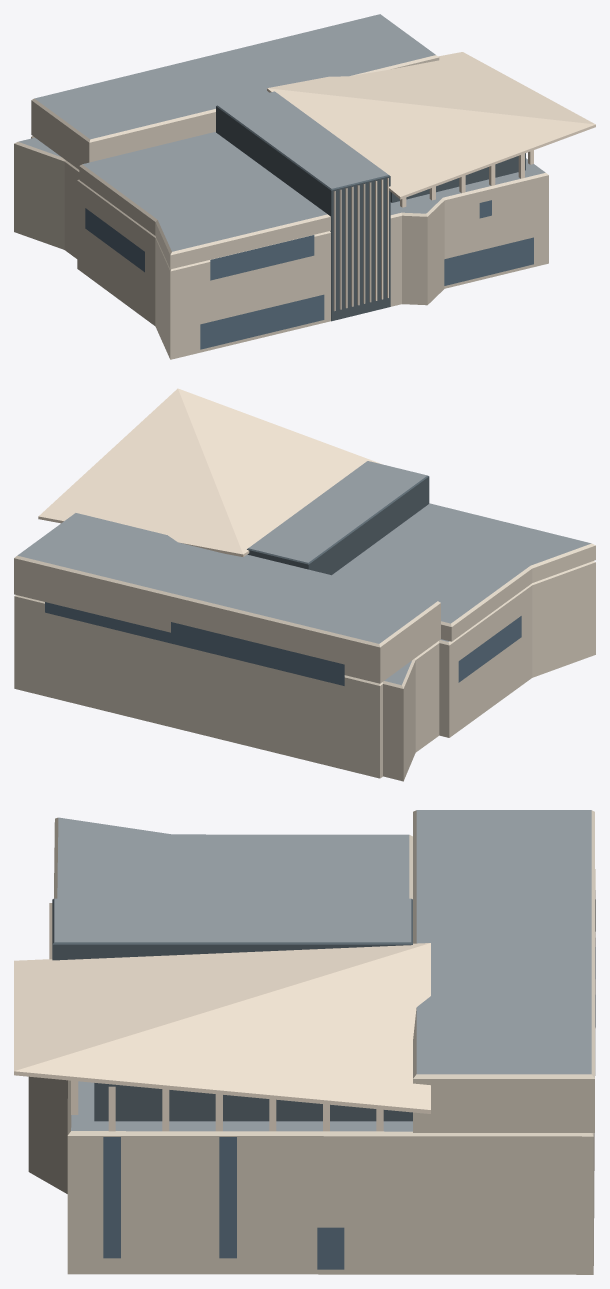
Rendered from den-history-colorado-center.glb.
3 renders of one model, top to bottom at view 1: azimuth 30°, elevation 25°; view 2: azimuth 150°, elevation 25°; view 3: azimuth 270°, elevation 25°, orthographic. The views are drawn at different scales.
Visible parts, largest first — view 1: History Colorado Center; view 2: History Colorado Center; view 3: History Colorado Center.
Part boxes in pixels (x1,y1,x2,y2): History Colorado Center: (14, 14, 595, 359); History Colorado Center: (14, 388, 595, 781); History Colorado Center: (14, 810, 595, 1274).
Size of the model in its own units: 83.49 by 27.9 by 65.2.
